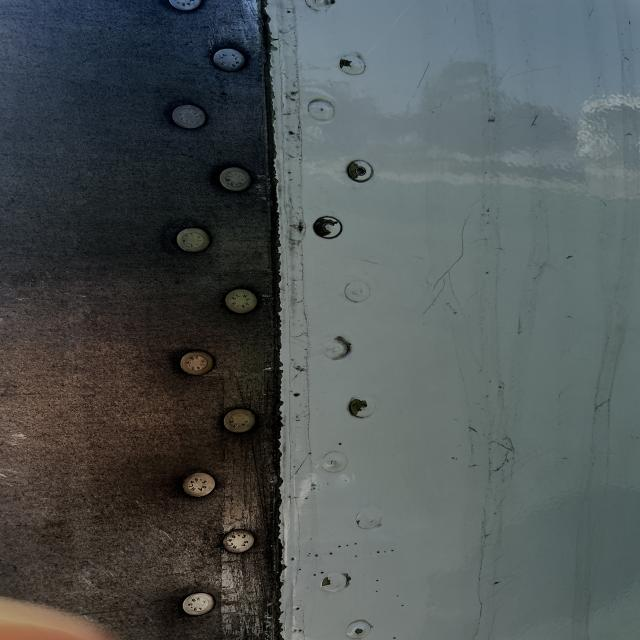crack: (429, 216, 500, 329), (473, 509, 506, 621), (477, 426, 530, 476), (403, 61, 448, 102), (525, 107, 551, 130)
